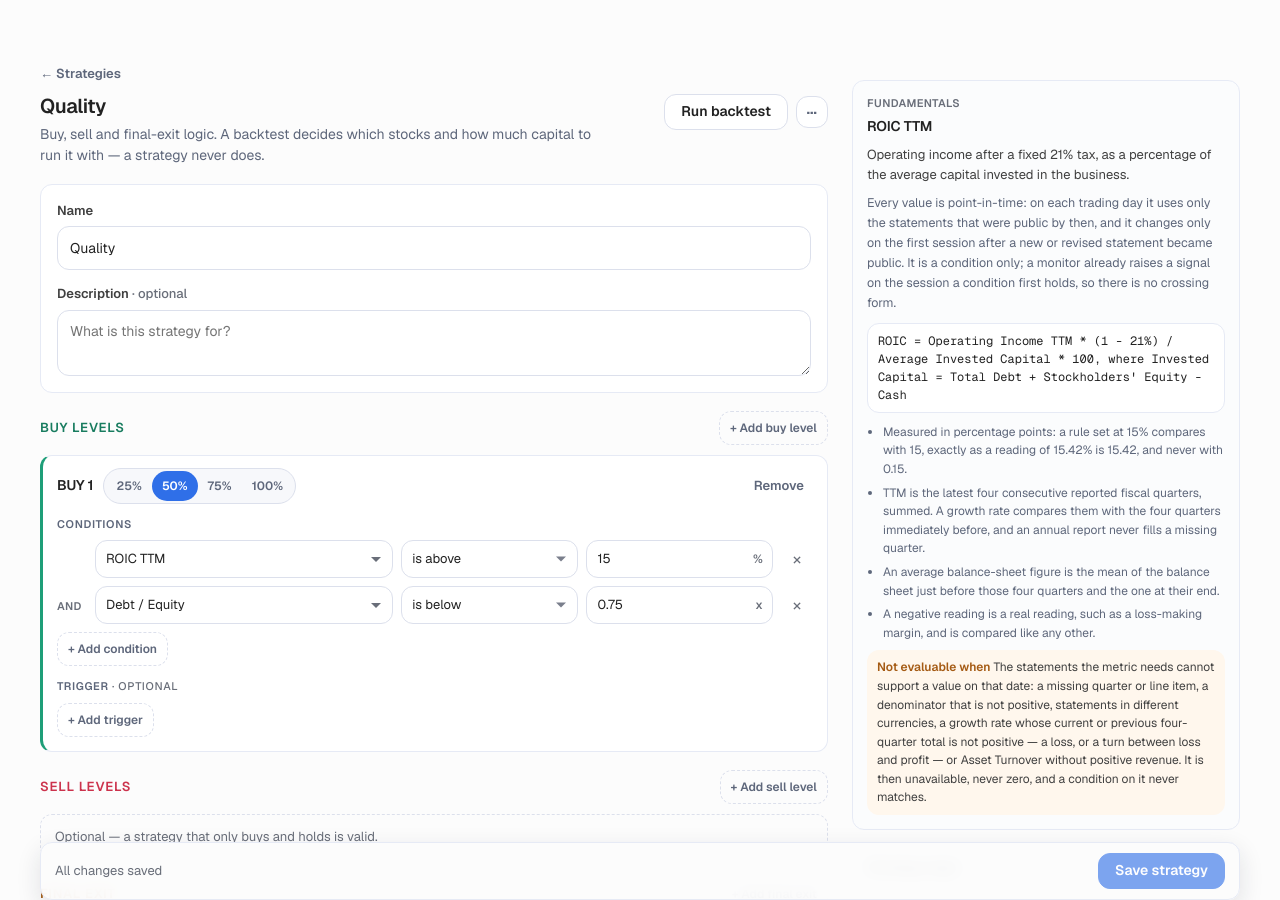
a saved Fundamental strategy in the Builder › reads back exactly as it was saved, in every control and in the Strategy logic
This screenshot has width=1280, height=900.
Click the button with test id "metric-picker" showing "ROIC TTM".
click(136, 559)  # box x1=95 y1=540 x2=393 y2=578
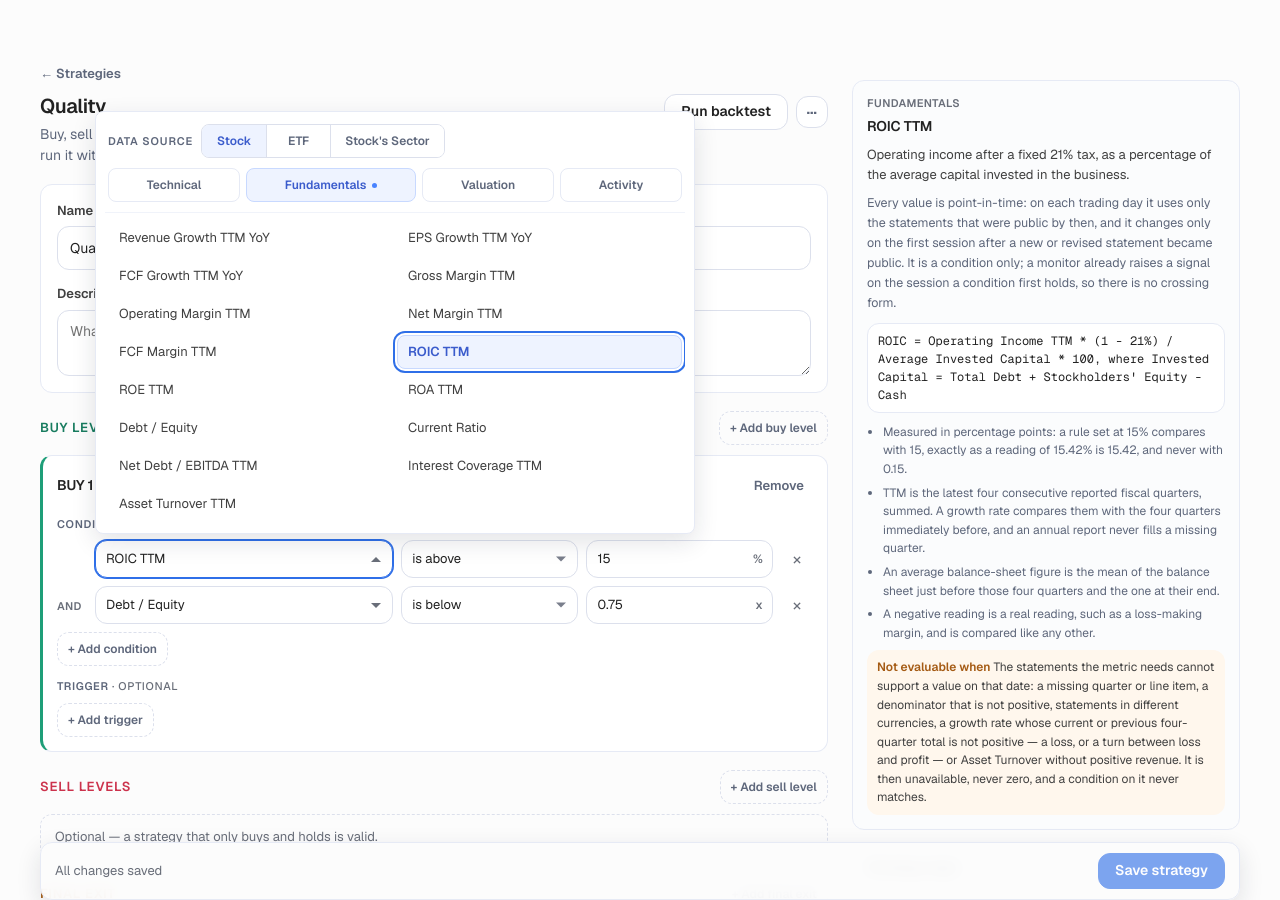
Press Escape
(page scrolled)
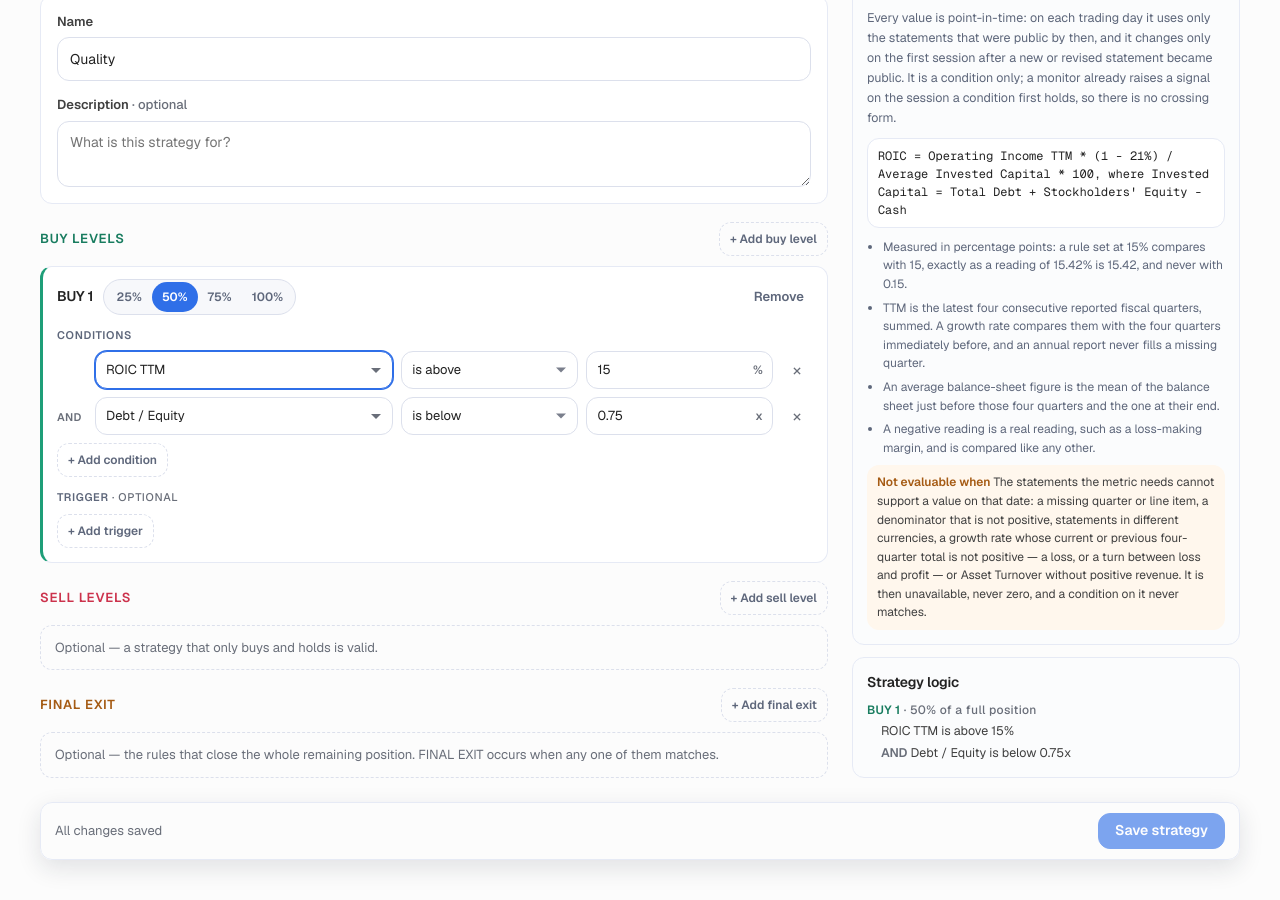
Expected: the 1st number field with test id "value-control" holds "15", x1=586 y1=351 x2=773 y2=389
Result: the list item "ROIC TTM is above 15%" is shown at x1=881 y1=722 x2=1014 y2=739
Result: the list item "Debt / Equity is below 0.75x" is shown at x1=910 y1=744 x2=1071 y2=761
